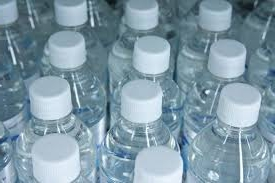plastic water bottle: (106, 33, 184, 145), (187, 81, 272, 183), (15, 79, 95, 183), (38, 30, 105, 144), (181, 38, 251, 134), (101, 79, 178, 149), (1, 1, 41, 78)
